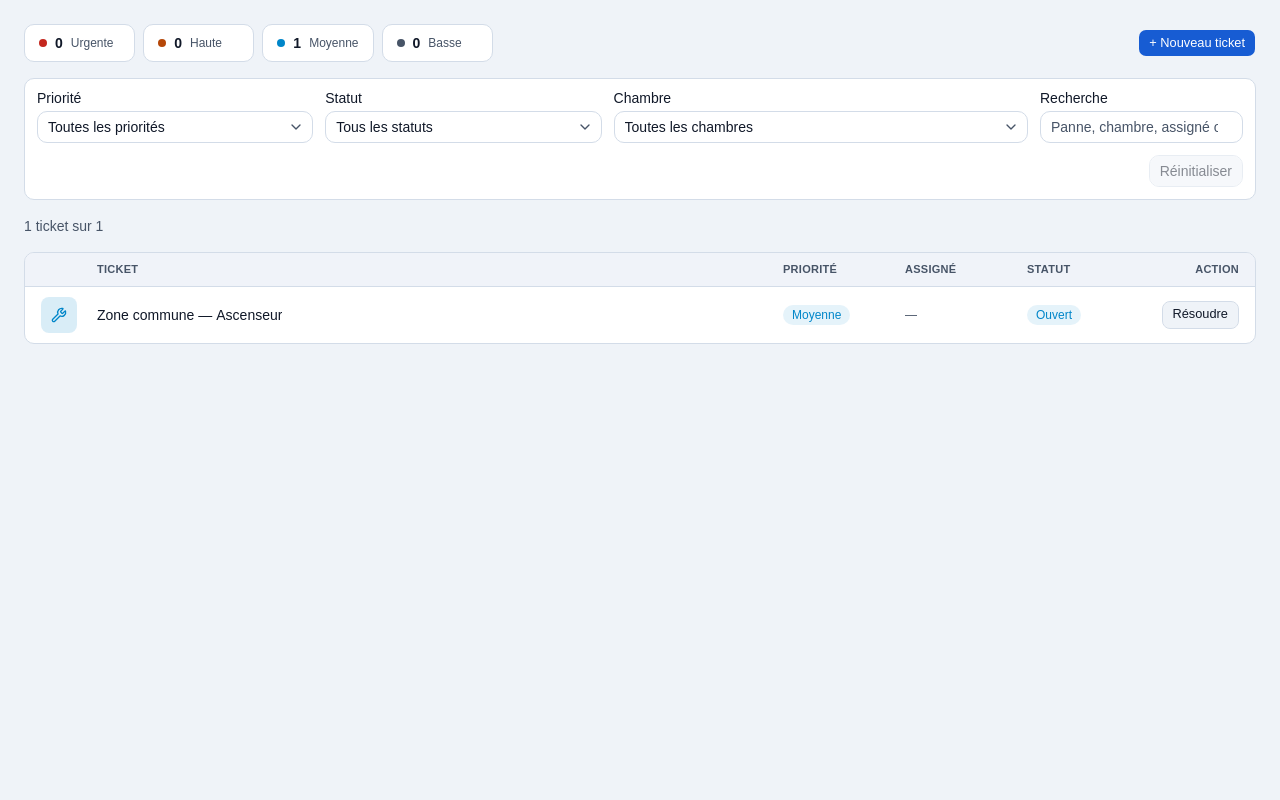
Test case: MaintenancePage — chargements indépendants › isole une erreur de détail de la liste et réessaie uniquement le détail
What coordinates should you click on to do the following:
click the button with aria-label "Voir le détail du ticket 7"
I would click on:
 (249, 314)
Its box is left=216, top=304, right=282, bottom=324.
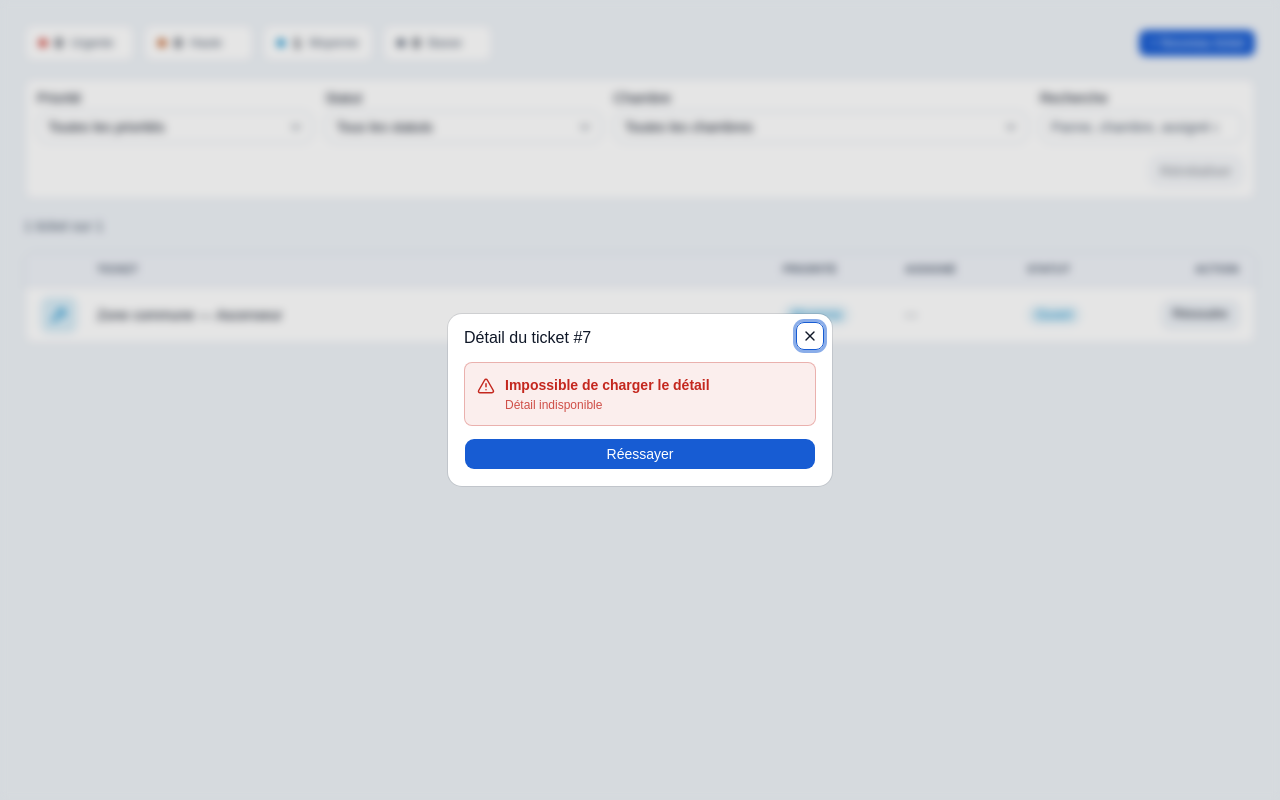
Result: the text "Impossible de charger le détail" is shown at left=505, top=375, right=710, bottom=395
What coordinates should you click on to do the following:
click the button "Réessayer"
I would click on:
 (640, 454)
Its box is left=464, top=438, right=816, bottom=470.
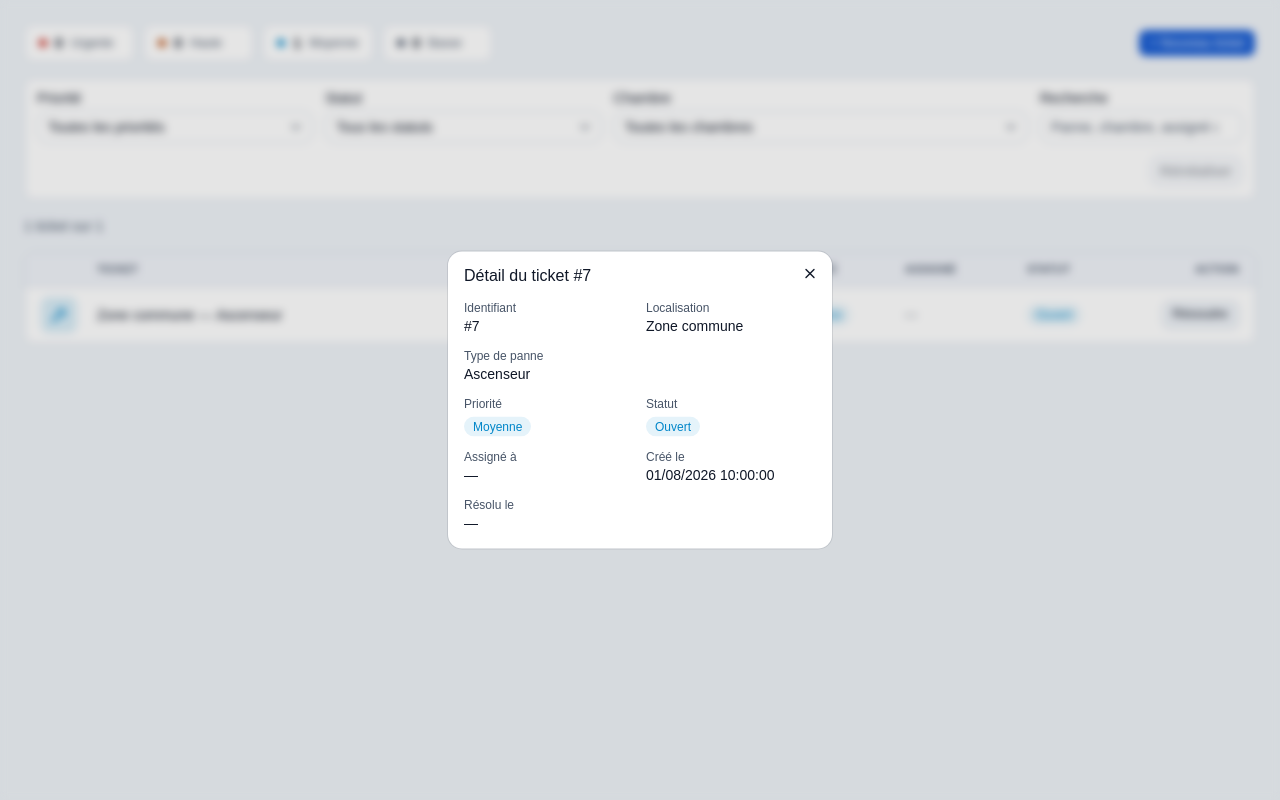
Result: the text "#7" is shown at left=464, top=318, right=480, bottom=334
